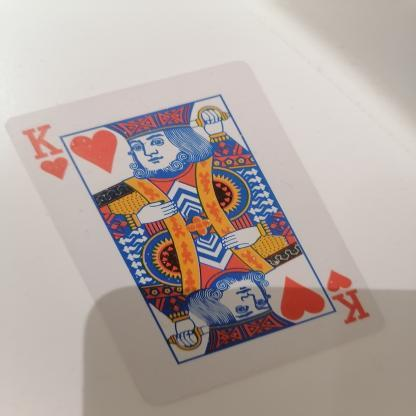KH: (304, 258, 380, 326), (14, 115, 70, 188)
